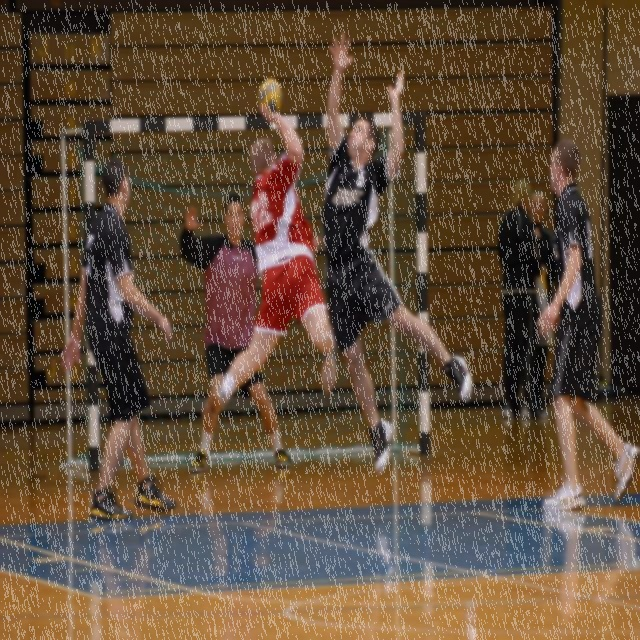pessoa: (311, 28, 476, 482), (195, 94, 340, 440), (52, 151, 181, 526), (531, 134, 639, 517), (180, 190, 324, 473), (496, 177, 550, 420), (528, 189, 556, 418)
